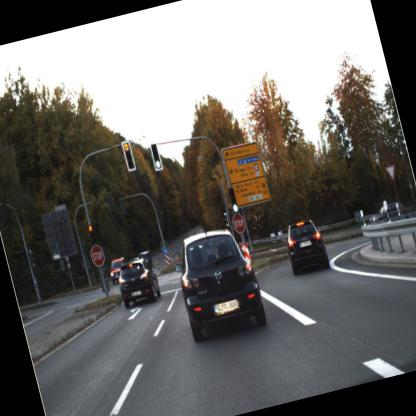mandatory: (158, 243, 170, 259)
other: (85, 240, 111, 272), (230, 209, 250, 236)
